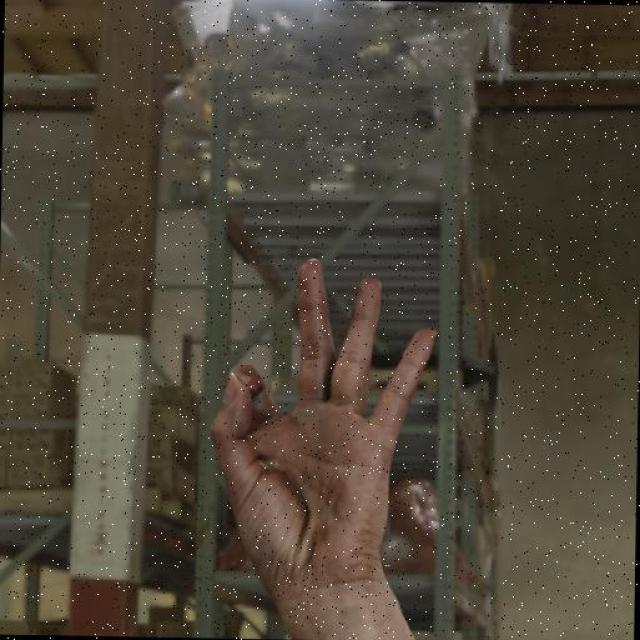F: (204, 249, 442, 589)
